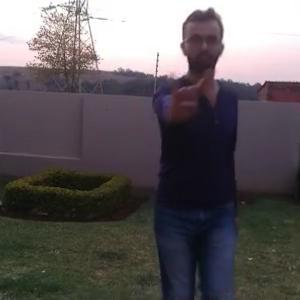takeoff-hand: (166, 65, 209, 117)
